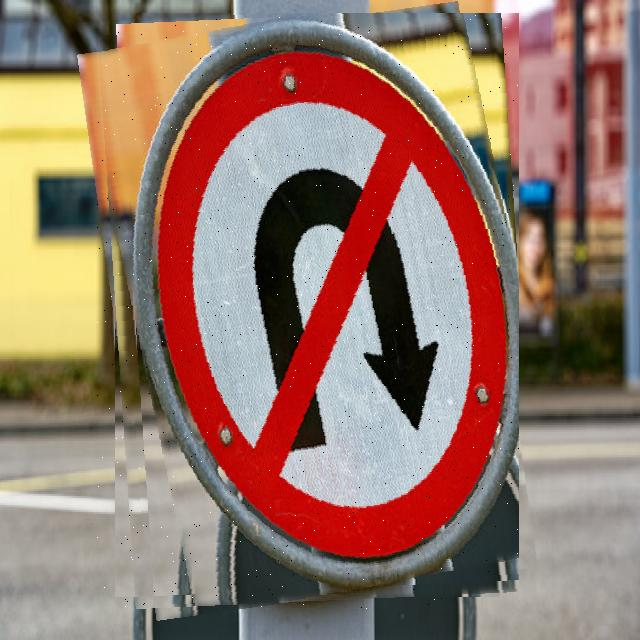no u turn: (96, 13, 519, 609)
